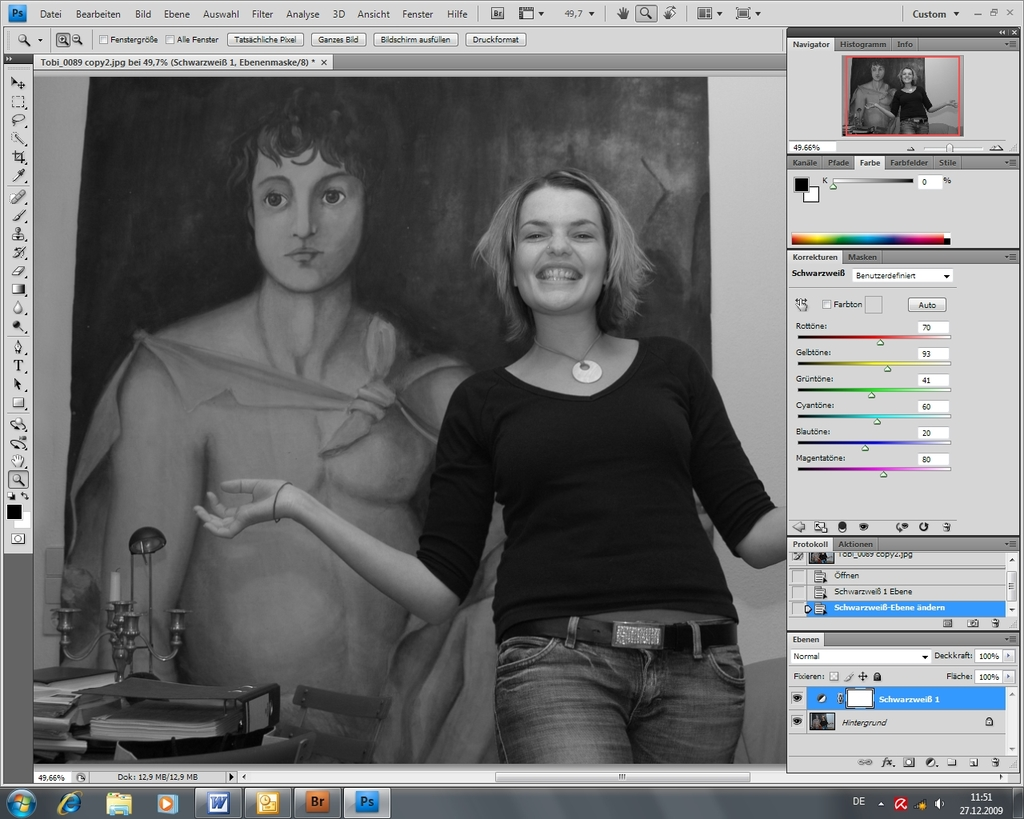Person: (852, 66, 896, 135)
